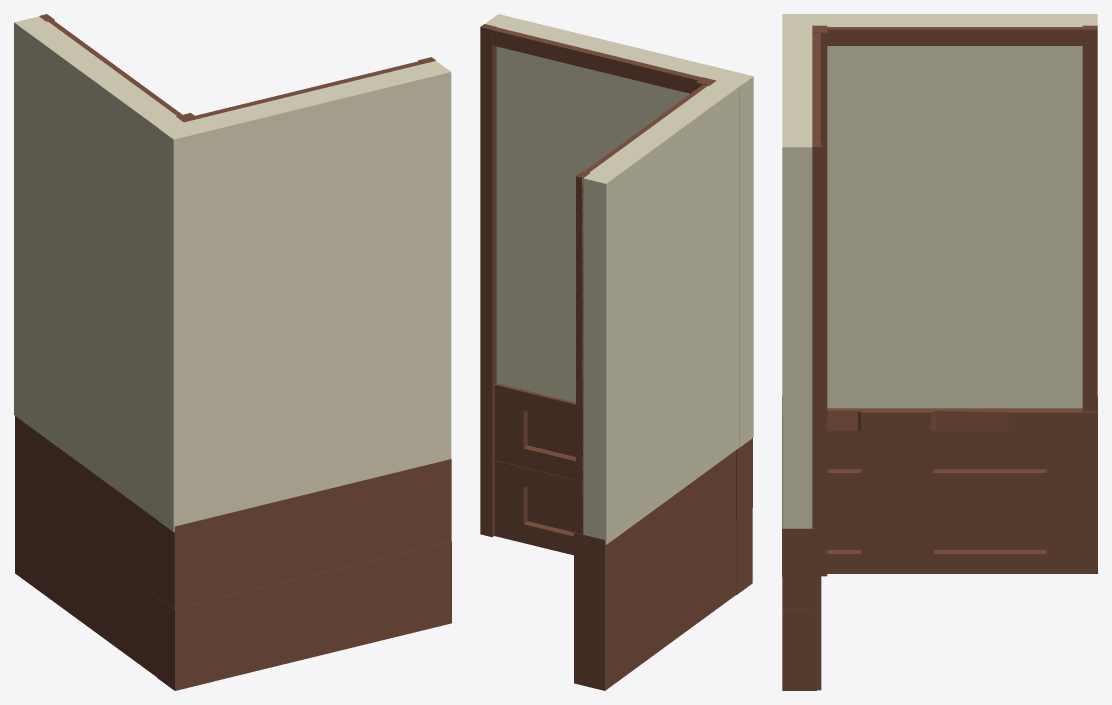
The model's file is corner-wall-simple.glb.
3 renders of one model, left to right at view 1: azimuth 30°, elevation 25°; view 2: azimuth 150°, elevation 25°; view 3: azimuth 270°, elevation 25°, orthographic. The views are drawn at different scales.
Visible parts, largest first — view 1: corner-wall-panel.001, corner-wall-panel, bottom-wood-corner-panel, top-wood-corner-panel, bottom-wood-corner-panel.002, bottom-wood-corner-panel.001, top-wood, top-wood.002; view 2: corner-wall-panel, corner-wall-panel.001, bottom-wood-corner-panel.002, bottom-wood-corner-panel.001, left-wood-side (×2), top-wood-corner-panel, bottom-wood-corner-panel, top-wood, top-wood.002; view 3: corner-wall-panel, bottom-wood-corner-panel.001, bottom-wood-corner-panel.002, corner-wall-panel.001, left-wood-side (×3), top-wood.002, top-wood-corner-panel, bottom-wood-corner-panel, top-wood.
Boxes of the visible parts, <box> form: corner-wall-panel.001: <box>158,61,451,532</box>; corner-wall-panel: <box>14,16,192,520</box>; bottom-wood-corner-panel: <box>157,541,451,690</box>; top-wood-corner-panel: <box>157,459,451,608</box>; bottom-wood-corner-panel.002: <box>15,491,157,677</box>; bottom-wood-corner-panel.001: <box>15,416,156,594</box>; top-wood: <box>195,61,421,118</box>; top-wood.002: <box>48,20,182,115</box>; corner-wall-panel: <box>582,75,745,544</box>; corner-wall-panel.001: <box>485,14,753,447</box>; bottom-wood-corner-panel.002: <box>574,517,739,690</box>; bottom-wood-corner-panel.001: <box>574,450,736,615</box>; left-wood-side (×2): <box>480,24,589,537</box>; top-wood-corner-panel: <box>494,383,752,519</box>; bottom-wood-corner-panel: <box>494,460,752,594</box>; top-wood: <box>492,27,701,93</box>; top-wood.002: <box>584,84,707,172</box>; corner-wall-panel: <box>797,14,1097,408</box>; bottom-wood-corner-panel.001: <box>827,396,1097,493</box>; bottom-wood-corner-panel.002: <box>827,493,1097,573</box>; corner-wall-panel.001: <box>782,14,812,528</box>; left-wood-side (×3): <box>812,25,1097,690</box>; top-wood.002: <box>827,27,1082,45</box>; top-wood-corner-panel: <box>782,396,816,609</box>; bottom-wood-corner-panel: <box>782,496,816,690</box>; top-wood: <box>812,33,820,140</box>.
Size of the model in its own units: 1.05 by 2 by 1.05.
